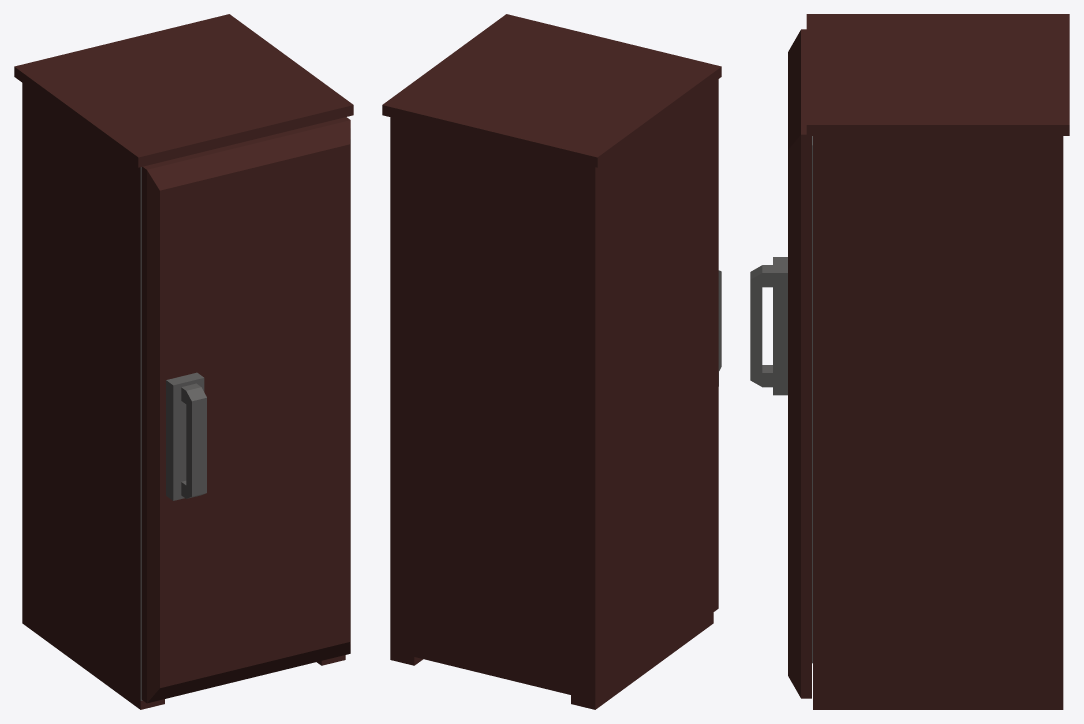
File: freezerhight_01_C.gltf
The picture shows the model from 3 angles, left to right: view 1: azimuth 30°, elevation 25°; view 2: azimuth 150°, elevation 25°; view 3: azimuth 270°, elevation 25°; orthographic projection. The views are drawn at different scales.
Visible parts, largest first — view 1: Doorfreezer_01_C, freezerhight_01_C; view 2: freezerhight_01_C, Doorfreezer_01_C; view 3: freezerhight_01_C, Doorfreezer_01_C.
Part boxes in pixels (x1,y1,x2,y2): Doorfreezer_01_C: [141, 117, 350, 703]; freezerhight_01_C: [14, 14, 353, 709]; freezerhight_01_C: [382, 14, 721, 709]; Doorfreezer_01_C: [713, 79, 721, 611]; freezerhight_01_C: [806, 14, 1069, 709]; Doorfreezer_01_C: [750, 29, 812, 698].
Bounding box in the file's own units: 0.6297 × 1.55 × 0.7646.
Materials: 1 (1 with a texture image).
